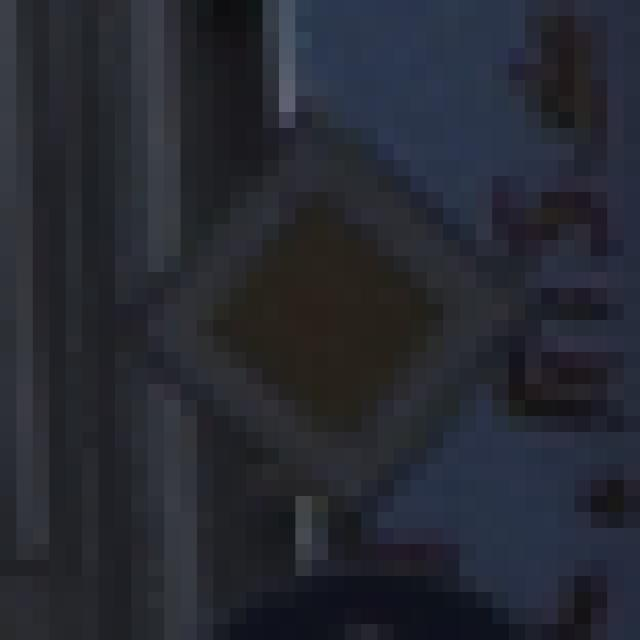Main Road: (83, 97, 559, 561)
